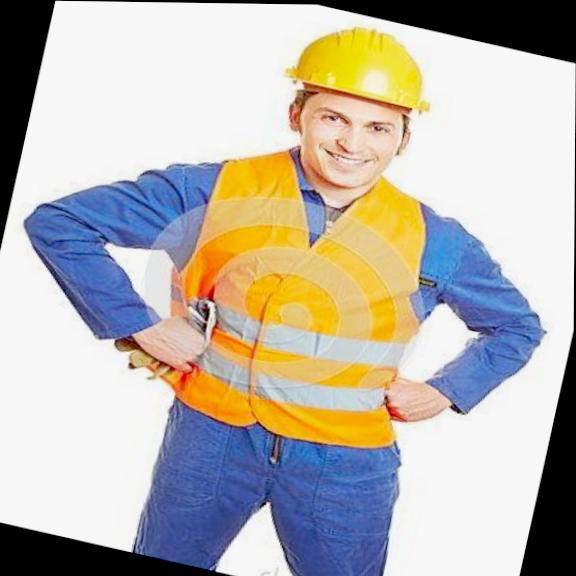safety_vest: (119, 132, 478, 472)
